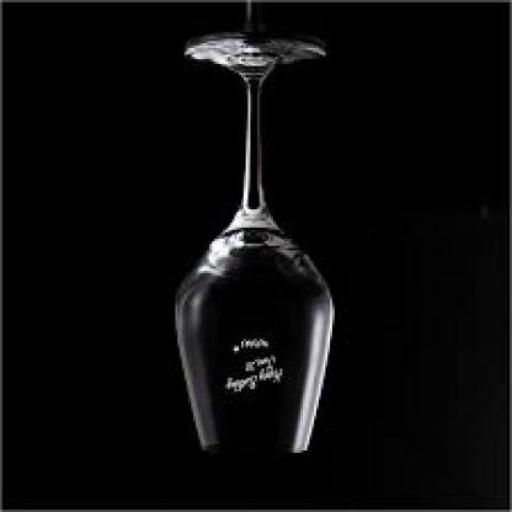glass: (177, 39, 340, 455)
